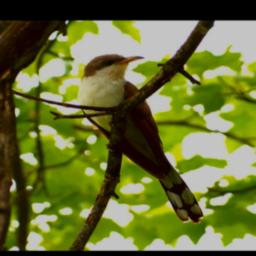Cuckoo: (77, 54, 205, 225)
